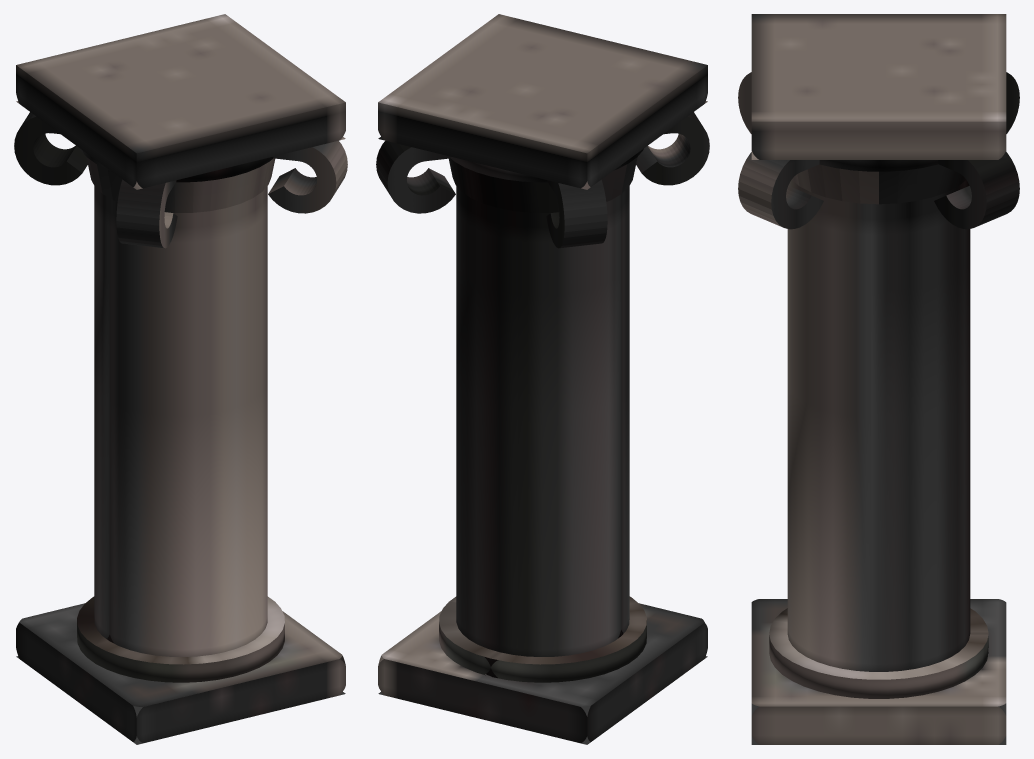
File: pillar_687x00.obj
The picture shows the model from 3 angles, left to right: view 1: azimuth 30°, elevation 25°; view 2: azimuth 150°, elevation 25°; view 3: azimuth 270°, elevation 25°; orthographic projection. The views are drawn at different scales.
Visible parts, largest first — view 1: Pillar.00; view 2: Pillar.00; view 3: Pillar.00.
Part boxes in pixels (box(x1,y1,x2,y2)): Pillar.00: box(14, 14, 347, 744); Pillar.00: box(376, 14, 709, 744); Pillar.00: box(738, 14, 1019, 744).
Bounding box in the file's own units: 2.21 × 5.4 × 2.21.
